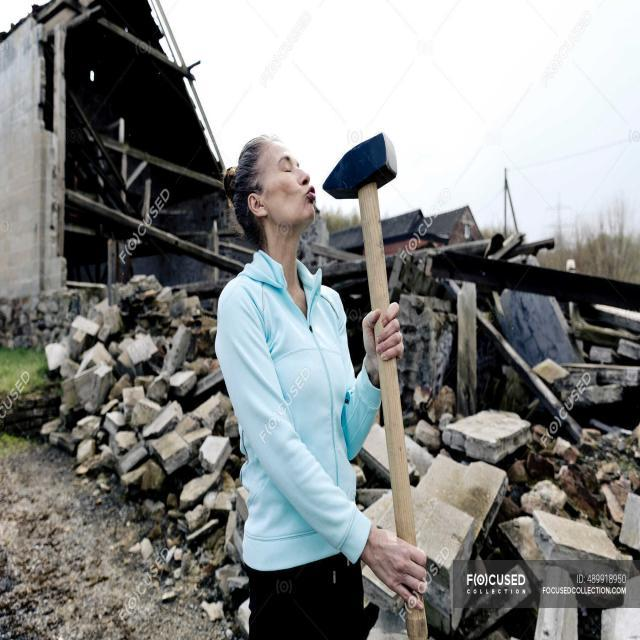hammer: (308, 126, 434, 640)
